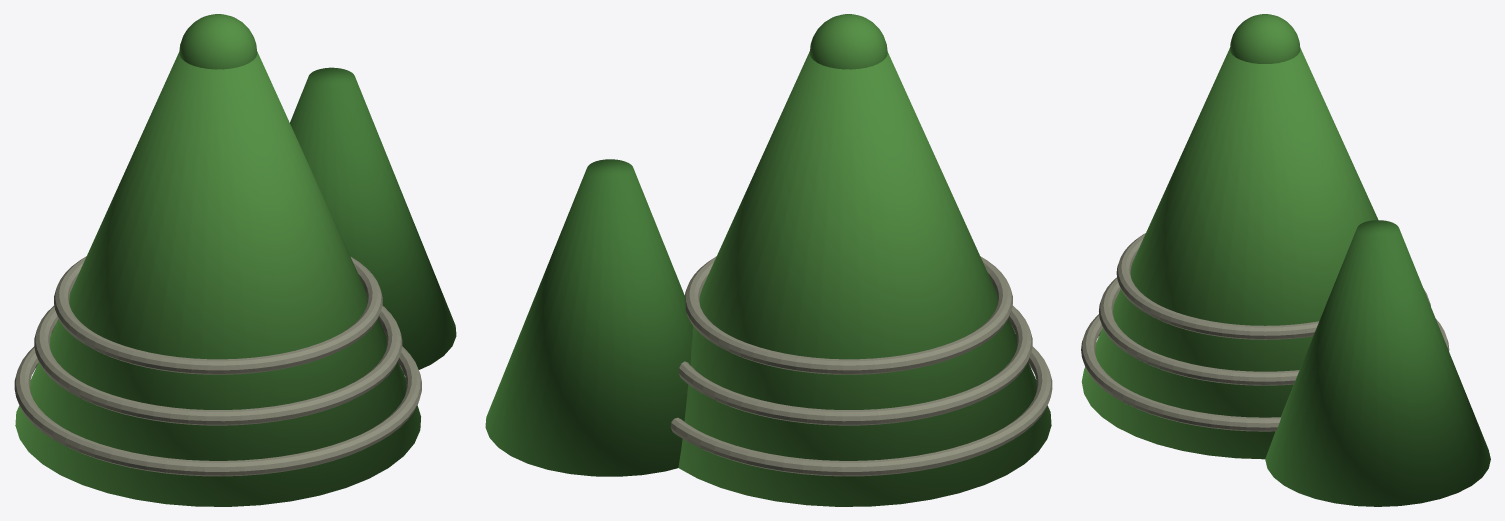
Rendered from montana_terrazas.glb.
The picture shows the model from 3 angles, left to right: view 1: azimuth 30°, elevation 25°; view 2: azimuth 150°, elevation 25°; view 3: azimuth 270°, elevation 25°; orthographic projection. The views are drawn at different scales.
Visible parts, largest first — view 1: Cone, Cone.001, Torus.018, Torus.019, Torus.020, Sphere; view 2: Cone, Cone.001, Torus.018, Torus.020, Torus.019, Sphere; view 3: Cone, Cone.001, Torus.018, Torus.019, Torus.020, Sphere.
Boxes of the visible parts, left/top/right/bottom form: Cone: left=15, top=51, right=420, bottom=506; Cone.001: left=290, top=67, right=456, bottom=374; Torus.018: left=14, top=346, right=421, bottom=476; Torus.019: left=34, top=305, right=402, bottom=425; Torus.020: left=54, top=256, right=382, bottom=374; Sphere: left=179, top=14, right=257, bottom=69; Cone: left=678, top=51, right=1051, bottom=506; Cone.001: left=485, top=159, right=692, bottom=476; Torus.018: left=670, top=346, right=1052, bottom=476; Torus.020: left=685, top=256, right=1012, bottom=374; Torus.019: left=678, top=305, right=1032, bottom=425; Sphere: left=809, top=14, right=887, bottom=69; Cone: left=1081, top=48, right=1378, bottom=459; Cone.001: left=1265, top=220, right=1490, bottom=506; Torus.018: left=1081, top=314, right=1449, bottom=431; Torus.019: left=1099, top=277, right=1430, bottom=385; Torus.020: left=1116, top=233, right=1318, bottom=339; Sphere: left=1230, top=14, right=1300, bottom=63.
Size of the model in its own units: 3.4 by 2.85 by 2.9.
